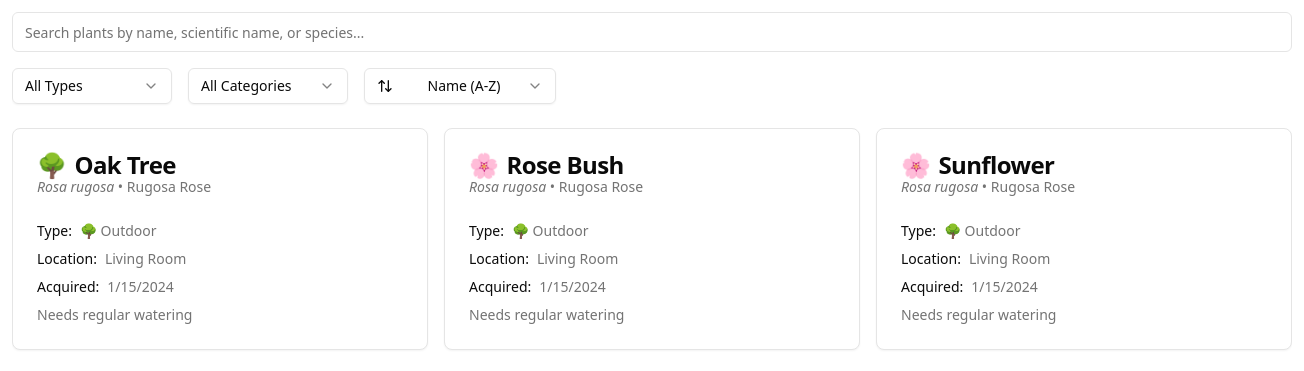
Test: PlantList › clears all filters when clear button is clicked
Note: Set search query
Type "rose" into the field with placeholder "Search plants by name, scientific name, or species...".
click(652, 32); type("rose")  # box [12,12,1292,52]
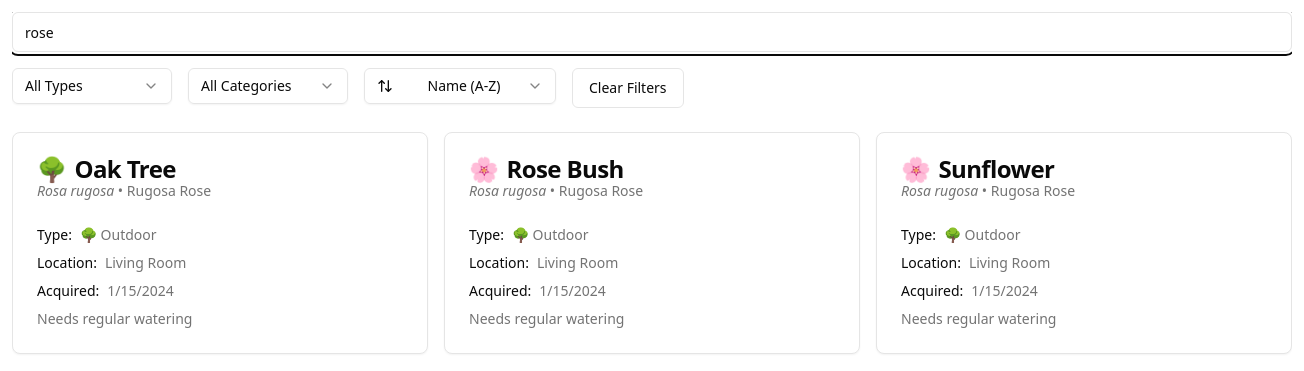
Note: Clear filters
Click the button "Clear Filters".
click(628, 88)  # box [572,68,684,108]
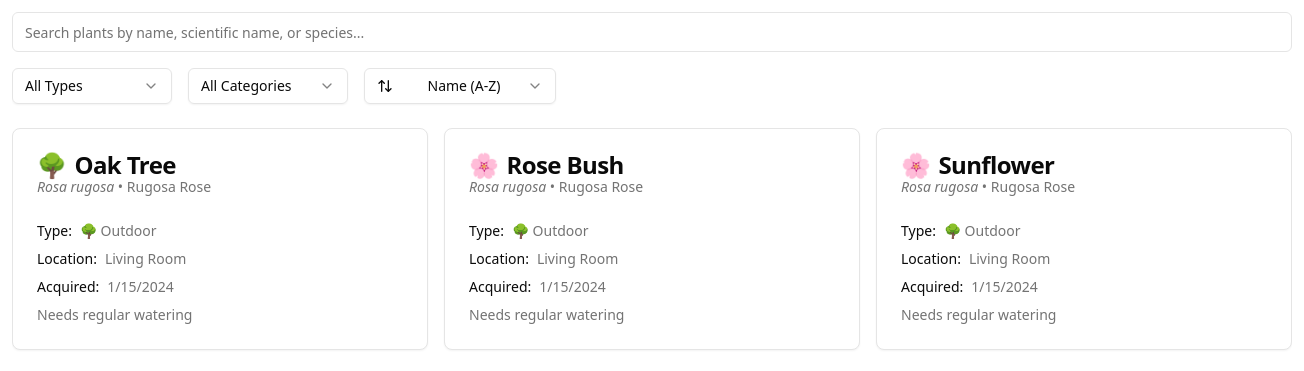
Expected: the field with placeholder "Search plants by name, scientific name, or species..." is empty, [12,12,1292,52]
